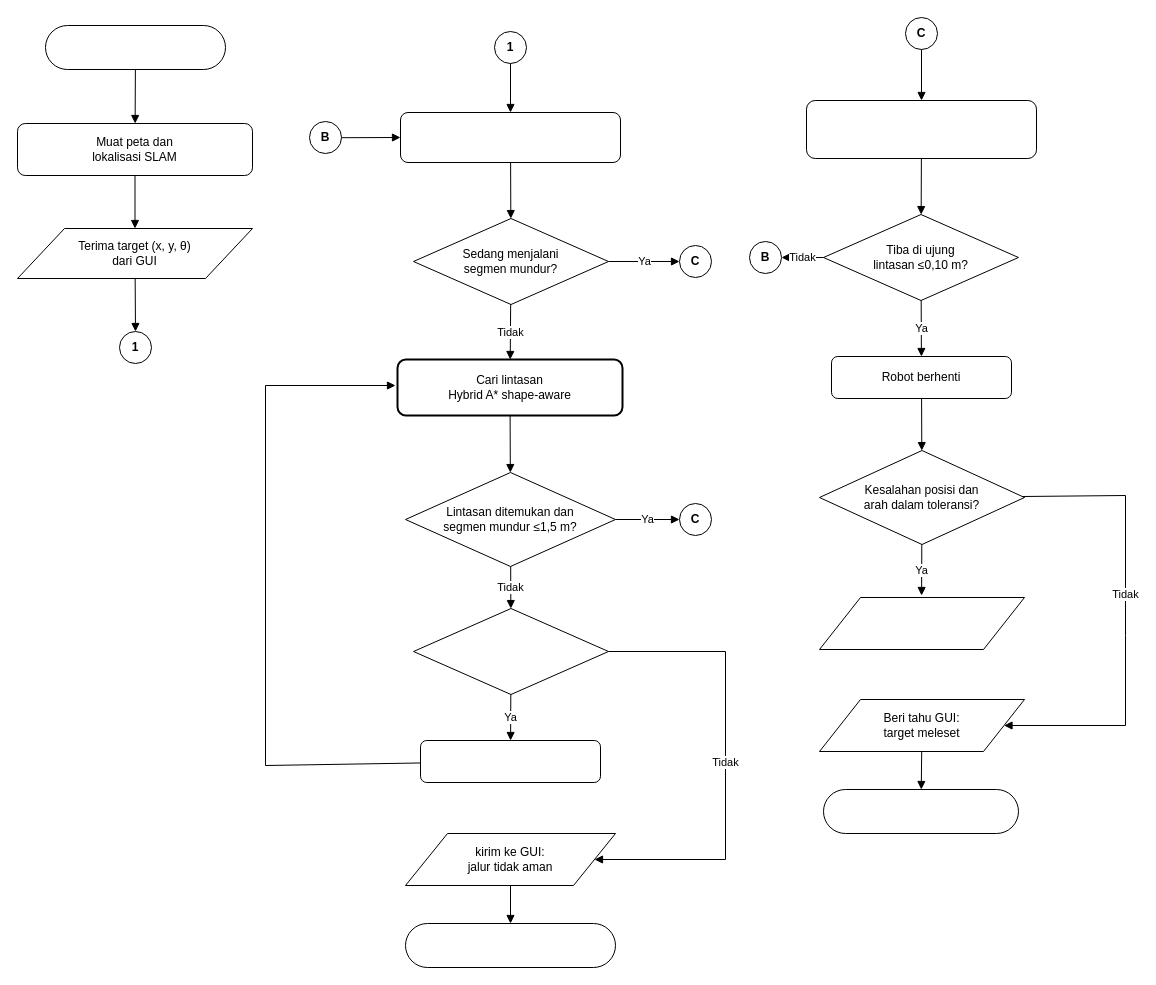
This 1156x985 diagram has some shape labels left out. The shapes that lost their labels are listed below. From the top down, each one's box as (x1, y1, x2, y2) in pixels, then its label:
(44, 24, 226, 70): Mulai
(400, 112, 620, 162): Perbarui costmap dari pindaian LiDAR
(806, 100, 1036, 158): Kirim ke RPP; ikuti lintasan
(818, 596, 1024, 650): Beri tahu GUI: Navigasi Berhasil
(412, 608, 608, 694): Perencanaan ulang < 3×?
(420, 740, 600, 782): Bobot Penali Gerak Mundur x 2
(822, 788, 1018, 834): Navigasi gagal
(404, 922, 616, 968): Navigasi dihentikan
